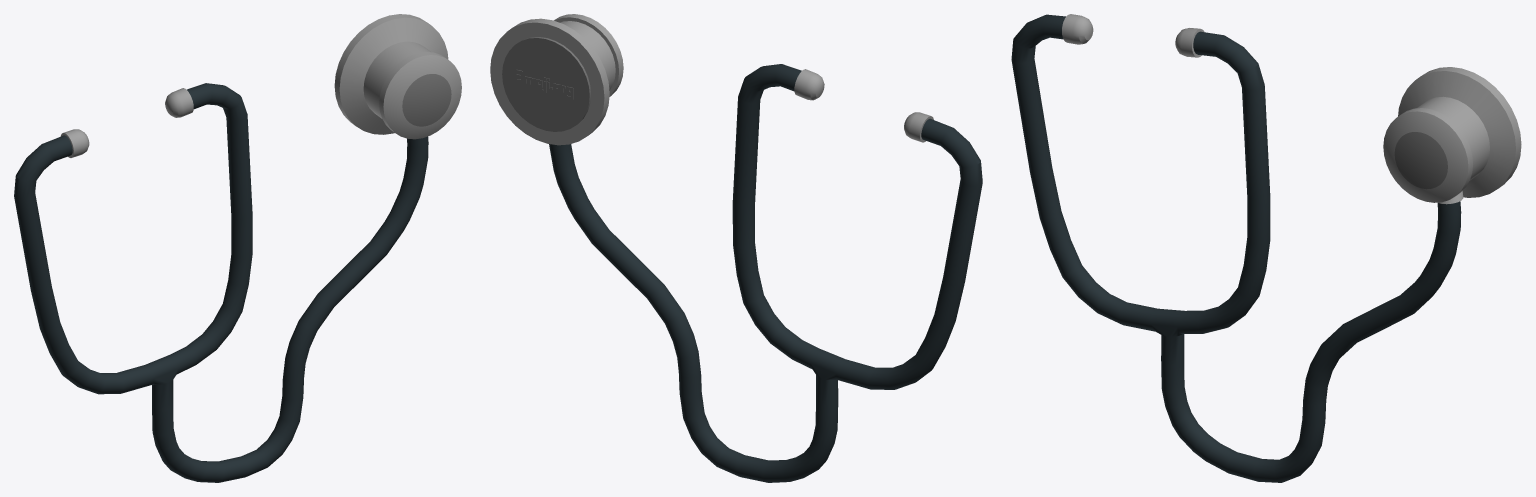
The model's file is stethoscope.fbx.
3 views of the same model, side by side, from view 1: azimuth 30°, elevation 25°; view 2: azimuth 150°, elevation 25°; view 3: azimuth 330°, elevation 25° (orthographic). The views are drawn at different scales.
Parts seen in each view (by area): view 1: Circle.2602; view 2: Circle.2602; view 3: Circle.2602.
Part boxes in pixels (box(x1,y1,x2,y2)): Circle.2602: box(14, 14, 461, 482); Circle.2602: box(490, 14, 982, 482); Circle.2602: box(1011, 14, 1521, 482).
Bounding box in the file's own units: 219 × 189 × 33.27.
1 material, 1 textured.
